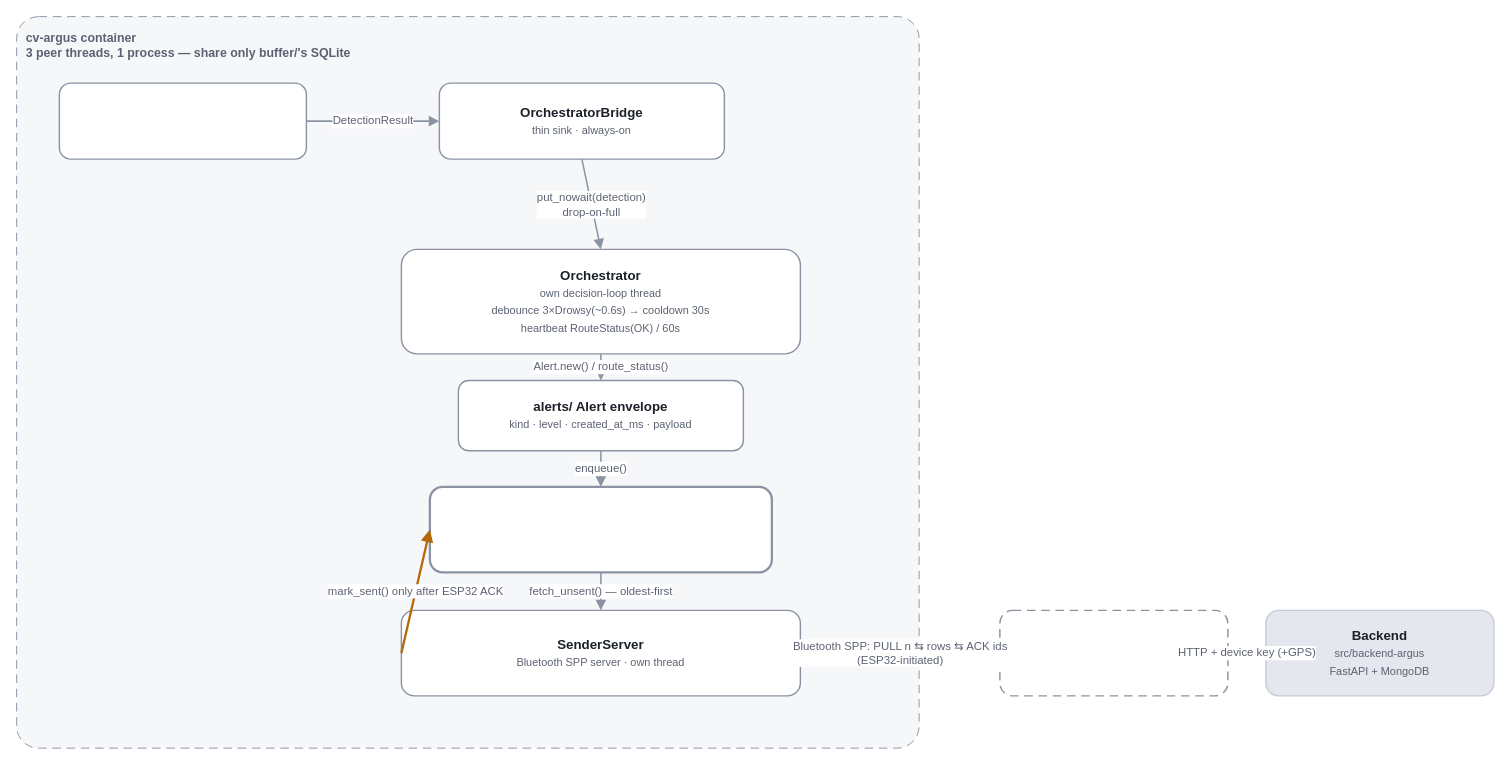
The diagram is 1511 pixels wide and 765 high, and some of its shapes have lost their labels. Here are the shapes that lost their labels. From the top down, the centre of each, then its label:
point 182,120: FusedInferenceStage Fig. 1 output + demo sinks
point 600,529: buffer/ SQLite (WAL) 1 table · threading.Lock
point 1113,652: ESP32 Message Sender Orchestrator ⚠ not in this repo (no hw/fw)
